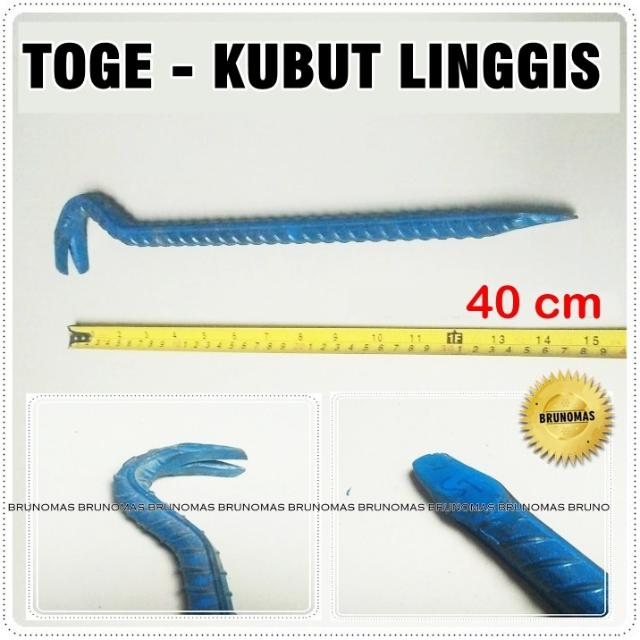crow bar: (52, 185, 580, 279)
